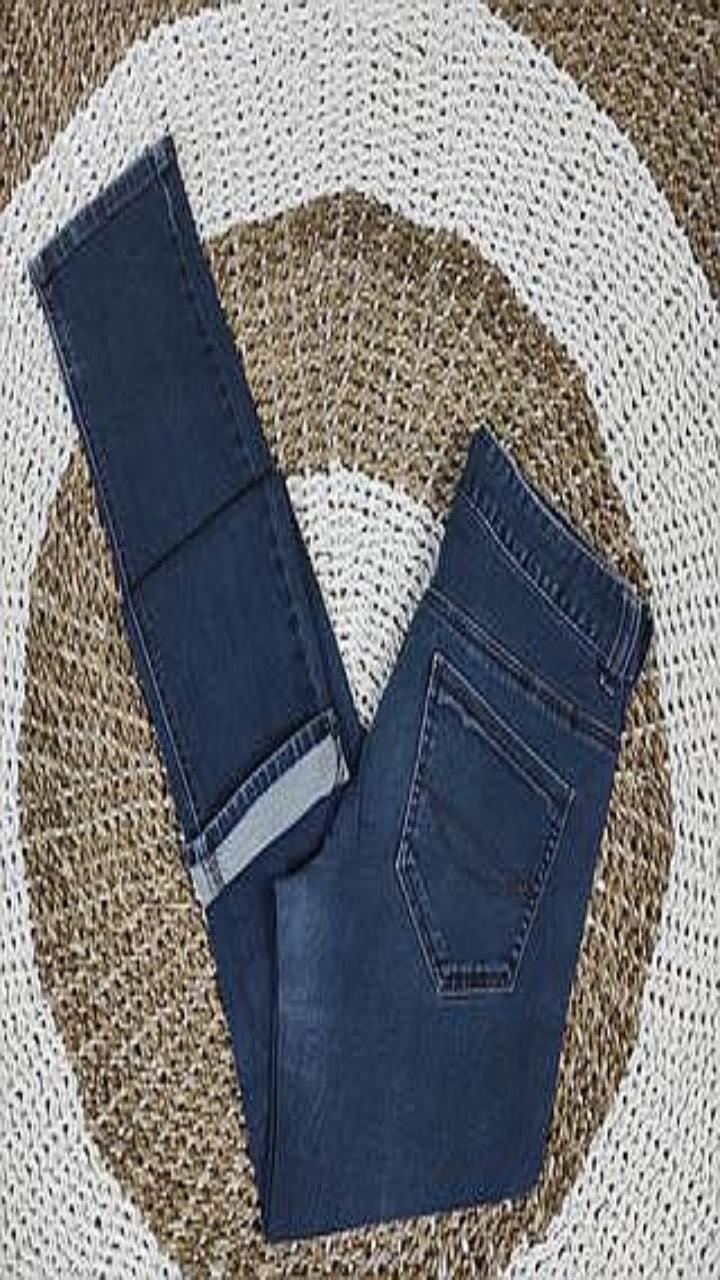Jeans: (30, 138, 649, 1237)
